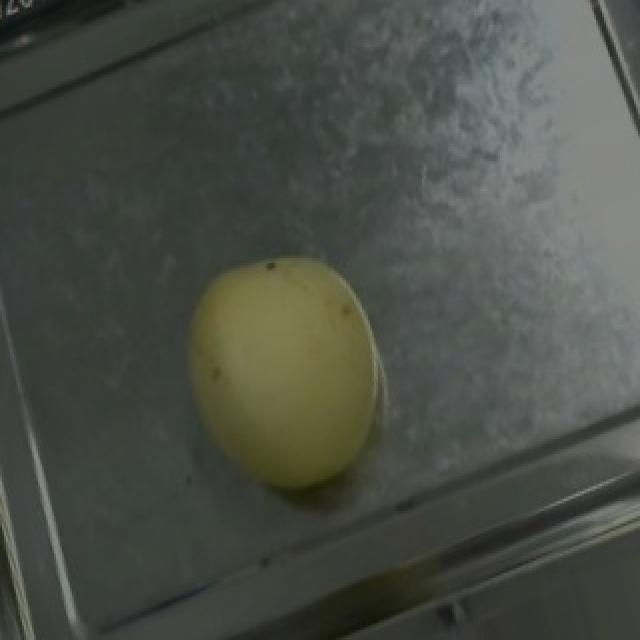Fruit: (140, 214, 428, 528)
